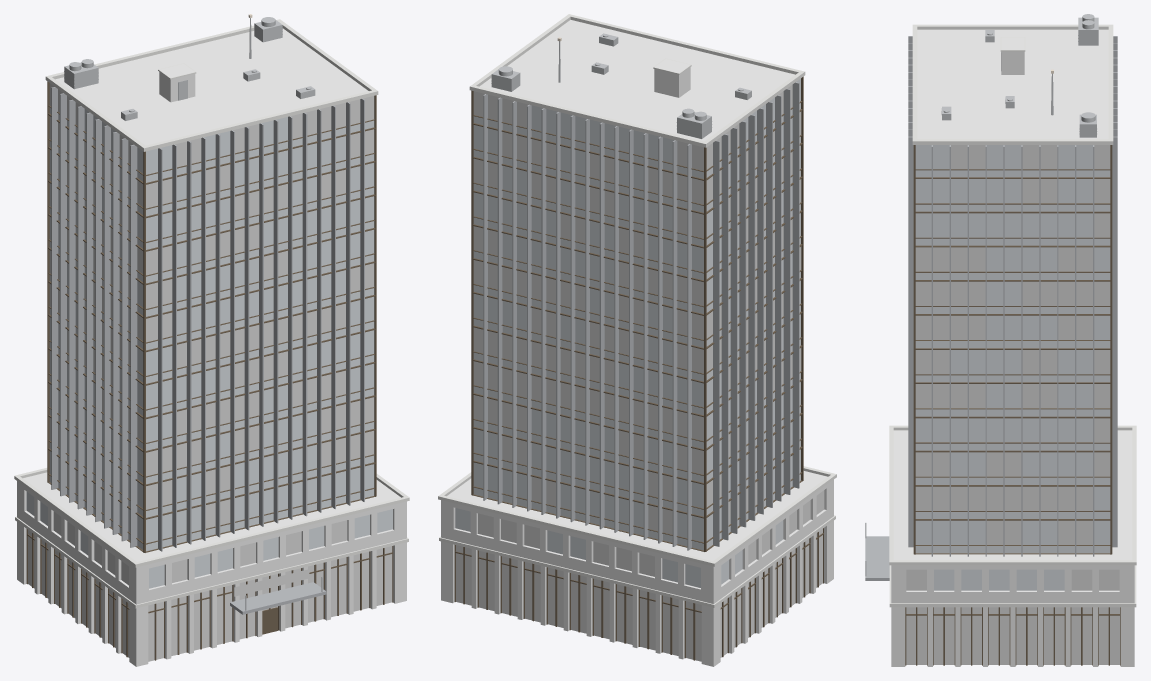
File: tower_block200.glb
3 views of the same model, side by side, from view 1: azimuth 30°, elevation 25°; view 2: azimuth 150°, elevation 25°; view 3: azimuth 270°, elevation 25° (orthographic).
Parts seen in each view (by area): view 1: tower_block200_Accent, tower_block200_Glass, tower_block200_WindowsLit, tower_block200_Roof, tower_block200_Walls2, tower_block200_Frames, tower_block200_Trim, tower_block200_Details, tower_block200_Brand; view 2: tower_block200_Accent, tower_block200_Glass, tower_block200_WindowsLit, tower_block200_Roof, tower_block200_Walls2, tower_block200_Frames, tower_block200_Trim, tower_block200_Details; view 3: tower_block200_Glass, tower_block200_WindowsLit, tower_block200_Roof, tower_block200_Accent, tower_block200_Frames, tower_block200_Walls2, tower_block200_Trim, tower_block200_Details.
Boxes of the visible parts, <box> form: tower_block200_Accent: <box>51,87,364,614</box>; tower_block200_Glass: <box>26,107,392,588</box>; tower_block200_WindowsLit: <box>28,83,392,661</box>; tower_block200_Roof: <box>23,28,400,561</box>; tower_block200_Walls2: <box>17,72,406,666</box>; tower_block200_Frames: <box>26,81,393,660</box>; tower_block200_Trim: <box>14,19,409,608</box>; tower_block200_Details: <box>64,17,322,610</box>; tower_block200_Brand: <box>234,569,309,596</box>; tower_block200_Accent: <box>483,82,799,550</box>; tower_block200_Glass: <box>455,78,800,587</box>; tower_block200_WindowsLit: <box>456,84,824,661</box>; tower_block200_Roof: <box>447,20,827,561</box>; tower_block200_Walls2: <box>441,67,833,666</box>; tower_block200_Frames: <box>454,76,823,660</box>; tower_block200_Trim: <box>438,14,836,607</box>; tower_block200_Details: <box>491,33,751,138</box>; tower_block200_Glass: <box>915,145,1110,590</box>; tower_block200_WindowsLit: <box>906,145,1119,664</box>; tower_block200_Roof: <box>893,29,1132,560</box>; tower_block200_Accent: <box>865,36,1117,580</box>; tower_block200_Frames: <box>905,145,1120,665</box>; tower_block200_Walls2: <box>891,51,1134,666</box>; tower_block200_Trim: <box>889,24,1136,607</box>; tower_block200_Details: <box>865,14,1098,576</box>.
Bounding box in the file's own units: 111 × 212 × 93.7.
